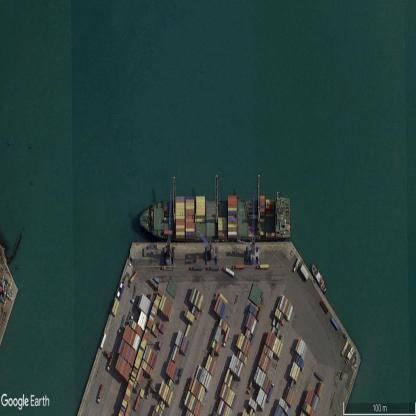ship: (139, 197, 292, 239), (311, 262, 328, 295)
